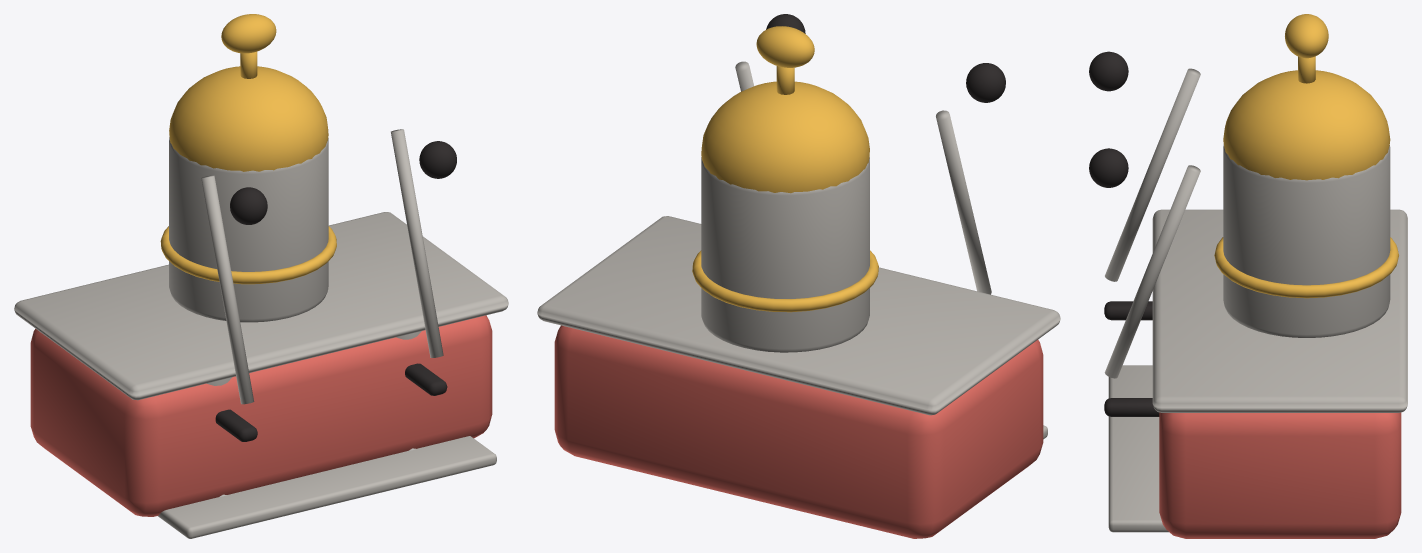
File: machine_levier.glb
The picture shows the model from 3 angles, left to right: view 1: azimuth 30°, elevation 25°; view 2: azimuth 150°, elevation 25°; view 3: azimuth 270°, elevation 25°; orthographic projection. The views are drawn at different scales.
Parts seen in each view (by area): view 1: socle, plateau, chaudiere, dome, egouttoir, levier0, levier1, cerclage, aigle, boule1, boule0, porte_filtre1 (+1 smaller); view 2: socle, plateau, chaudiere, dome, cerclage, levier0, aigle, boule0; view 3: plateau, socle, chaudiere, dome, egouttoir, levier0, levier1, cerclage, aigle, boule1, boule0, porte_filtre1 (+2 smaller).
Boxes of the visible parts, left/top/right/bottom form: socle: left=30, top=315, right=492, bottom=516; plateau: left=14, top=212, right=508, bottom=400; chaudiere: left=169, top=137, right=328, bottom=322; dome: left=169, top=66, right=328, bottom=171; egouttoir: left=158, top=436, right=496, bottom=538; levier0: left=201, top=175, right=254, bottom=404; levier1: left=391, top=129, right=443, bottom=357; cerclage: left=160, top=226, right=336, bottom=284; aigle: left=221, top=14, right=276, bottom=53; boule1: left=419, top=141, right=456, bottom=178; boule0: left=230, top=187, right=267, bottom=224; porte_filtre1: left=405, top=363, right=447, bottom=395; socle: left=554, top=325, right=1043, bottom=538; plateau: left=537, top=216, right=1060, bottom=415; chaudiere: left=701, top=157, right=869, bottom=352; dome: left=701, top=81, right=869, bottom=193; cerclage: left=692, top=250, right=878, bottom=312; levier0: left=936, top=110, right=991, bottom=294; aigle: left=756, top=26, right=814, bottom=67; boule0: left=966, top=63, right=1005, bottom=102; plateau: left=1152, top=209, right=1407, bottom=412; socle: left=1159, top=412, right=1401, bottom=538; chaudiere: left=1223, top=144, right=1390, bottom=337; dome: left=1223, top=70, right=1390, bottom=180; egouttoir: left=1108, top=365, right=1168, bottom=532; levier0: left=1105, top=68, right=1200, bottom=281; levier1: left=1104, top=165, right=1200, bottom=378; cerclage: left=1214, top=237, right=1398, bottom=298; aigle: left=1285, top=14, right=1328, bottom=58; boule1: left=1089, top=148, right=1128, bottom=187; boule0: left=1089, top=51, right=1128, bottom=91; porte_filtre1: left=1104, top=398, right=1159, bottom=416.
Size of the model in its own units: 1.04 by 1.09 by 0.725.
